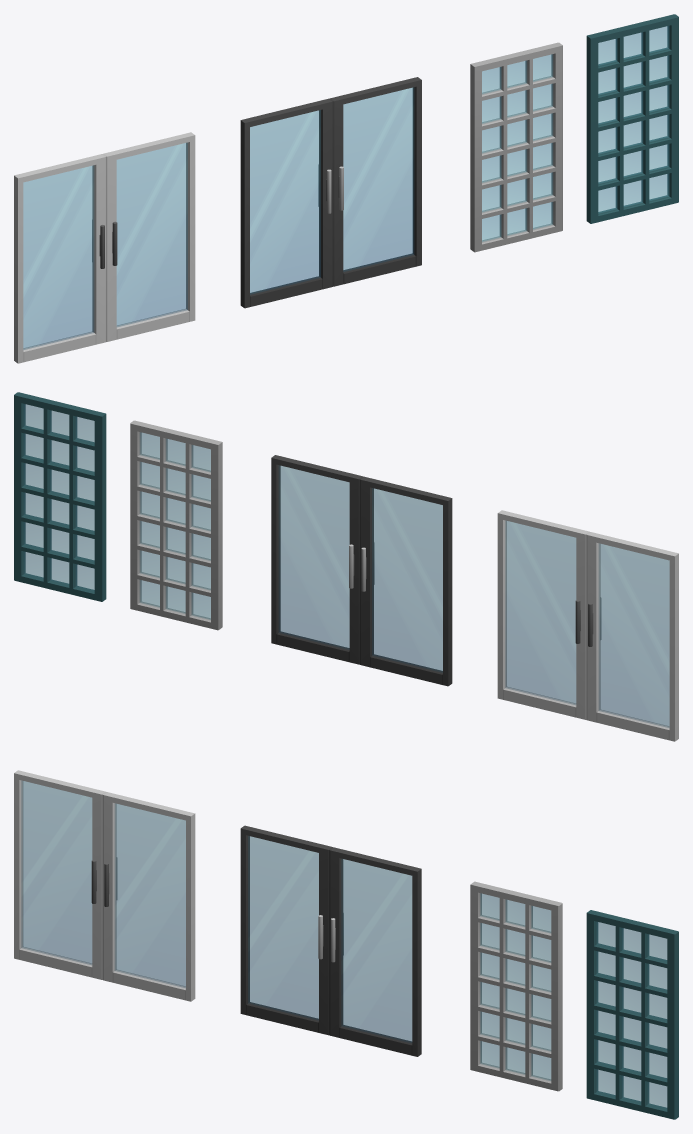
The model's file is Big_Doors.fbx.
3 renders of one model, top to bottom at view 1: azimuth 30°, elevation 25°; view 2: azimuth 150°, elevation 25°; view 3: azimuth 330°, elevation 25°, orthographic.
Parts seen in each view (by area): view 1: Big_Door_01_L (×2), Big_Door_01_R (×2), Big_Door_03, Big_Door_04; view 2: Big_Door_01_L (×2), Big_Door_01_R (×2), Big_Door_03, Big_Door_04; view 3: Big_Door_01_R (×2), Big_Door_01_L (×2), Big_Door_03, Big_Door_04.
Boxes of the visible parts, box(x1,y1,x2,y2) form: Big_Door_01_L (×2): box(14, 98, 332, 363); Big_Door_01_R (×2): box(103, 77, 421, 341); Big_Door_03: box(470, 42, 562, 252); Big_Door_04: box(586, 14, 678, 223); Big_Door_01_L (×2): box(360, 476, 678, 741); Big_Door_01_R (×2): box(271, 455, 589, 719); Big_Door_03: box(130, 420, 222, 630); Big_Door_04: box(14, 392, 106, 601); Big_Door_01_R (×2): box(102, 792, 421, 1056); Big_Door_01_L (×2): box(14, 770, 332, 1035); Big_Door_03: box(470, 881, 562, 1091); Big_Door_04: box(586, 910, 678, 1119).
Bounding box in the file's own units: 32.65 × 8.75 × 0.9117.
